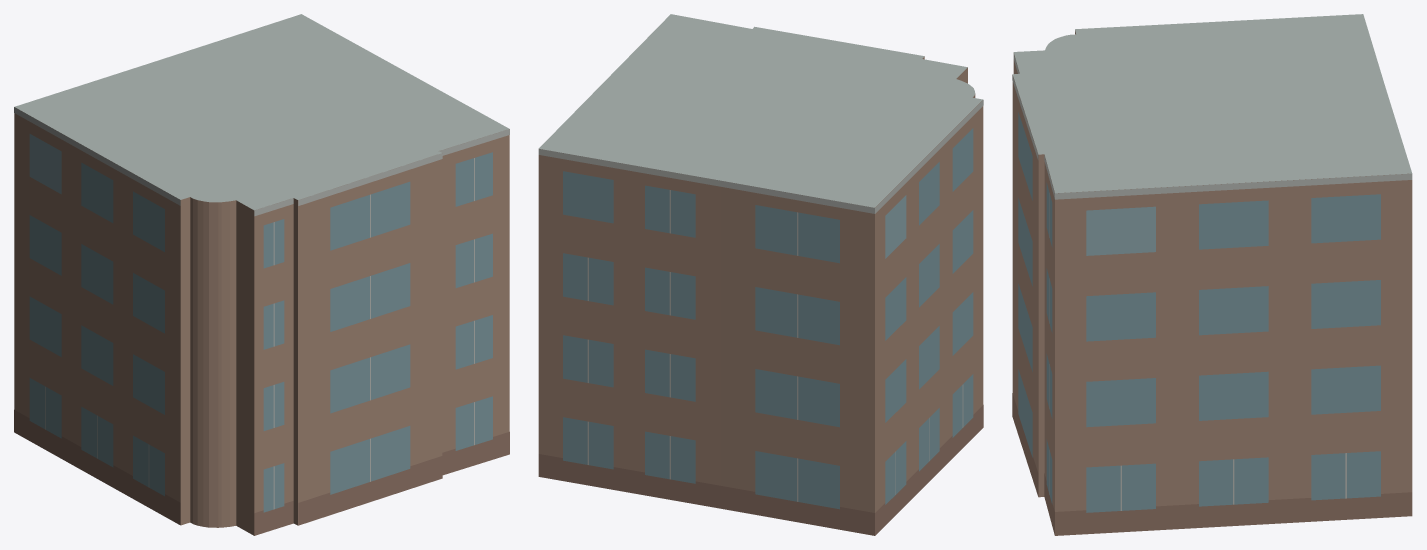
File: survey-upis-32995691.glb
3 views of the same model, side by side, from view 1: azimuth 30°, elevation 25°; view 2: azimuth 150°, elevation 25°; view 3: azimuth 270°, elevation 25° (orthographic). The views are drawn at different scales.
Visible parts, largest first — view 1: survey-upis-32995691.tmp; view 2: survey-upis-32995691.tmp; view 3: survey-upis-32995691.tmp.
Part boxes in pixels (x1,y1,x2,y2): survey-upis-32995691.tmp: [14, 14, 509, 535]; survey-upis-32995691.tmp: [538, 14, 983, 535]; survey-upis-32995691.tmp: [1012, 14, 1412, 535].
Size of the model in its own units: 14.71 by 13.1 by 13.86.
